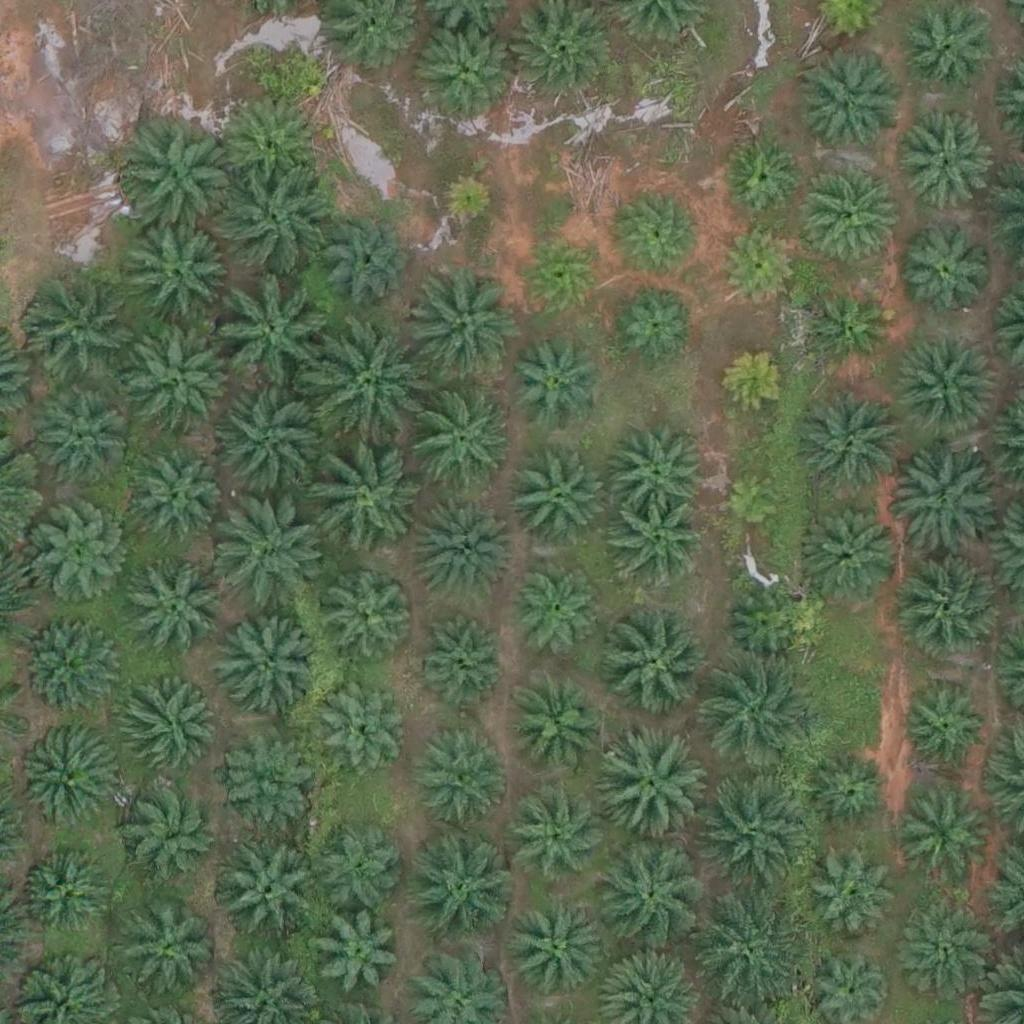Kelapa_Sawit: (794, 383, 907, 497), (701, 776, 814, 890), (598, 604, 711, 718), (892, 449, 1005, 562), (591, 732, 704, 845), (213, 384, 326, 497), (310, 331, 423, 444), (216, 280, 329, 393), (121, 123, 234, 236), (212, 501, 324, 615), (704, 655, 816, 768), (692, 895, 804, 1008), (594, 839, 706, 952), (306, 440, 418, 553), (407, 267, 519, 380), (222, 163, 334, 276), (124, 313, 236, 426), (18, 276, 130, 389), (893, 336, 993, 437), (906, 559, 1006, 660), (807, 500, 907, 601), (607, 420, 707, 521), (501, 333, 601, 434), (508, 449, 608, 550), (508, 673, 608, 774), (510, 790, 610, 891), (506, 901, 606, 1002), (414, 389, 514, 490), (411, 722, 511, 823), (410, 841, 510, 942), (319, 562, 419, 663), (219, 617, 319, 718), (223, 846, 323, 947), (124, 559, 224, 660), (116, 679, 216, 780), (121, 779, 221, 880), (22, 614, 122, 715), (19, 730, 119, 831), (899, 104, 999, 205), (892, 227, 992, 328), (797, 56, 897, 157), (796, 164, 896, 265), (221, 93, 321, 194), (129, 227, 229, 328), (410, 504, 510, 604), (215, 729, 315, 829), (25, 509, 125, 609), (420, 23, 520, 123), (511, 571, 599, 660), (901, 905, 989, 993), (810, 856, 898, 944), (724, 585, 812, 673), (616, 500, 704, 588), (416, 615, 504, 703), (21, 855, 109, 943), (615, 188, 703, 276), (615, 280, 703, 368), (713, 220, 801, 308), (721, 131, 809, 219), (328, 213, 416, 301), (902, 686, 989, 775), (906, 801, 993, 889), (805, 753, 892, 841), (317, 683, 404, 771), (317, 824, 404, 912), (314, 912, 401, 1000), (136, 454, 223, 542), (125, 907, 212, 995), (38, 399, 125, 487), (516, 230, 603, 318), (806, 280, 893, 368), (718, 342, 793, 418), (433, 171, 496, 234), (723, 471, 785, 534)
